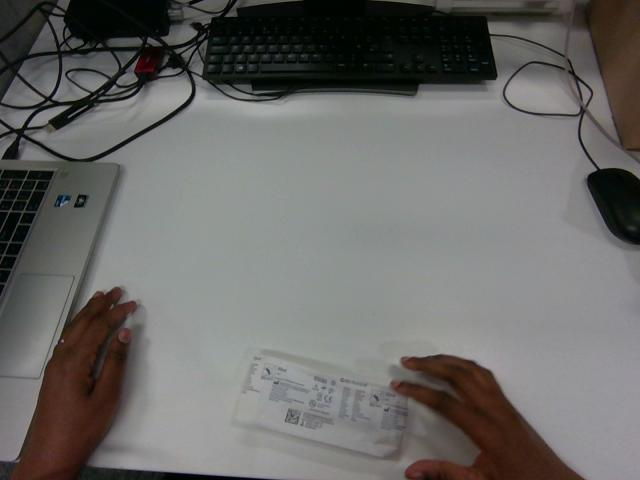syringe: (236, 355, 407, 456)
